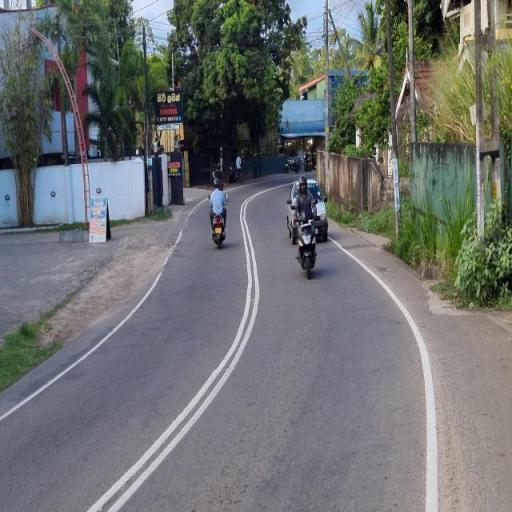double_white_line: (83, 195, 261, 512)
